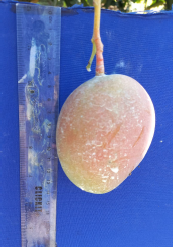Mango-sano: (56, 0, 154, 193)
